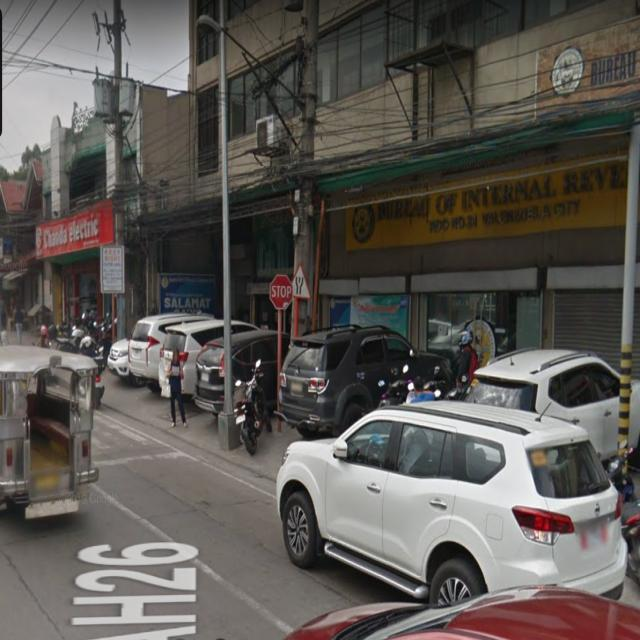stop: (269, 270, 293, 315)
